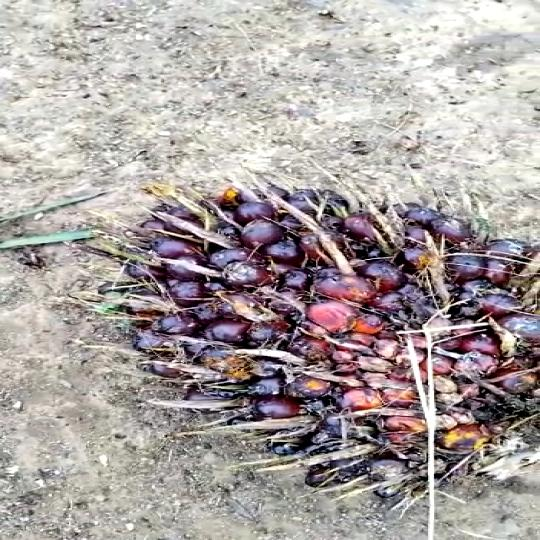kurang masak: (105, 183, 540, 496)
